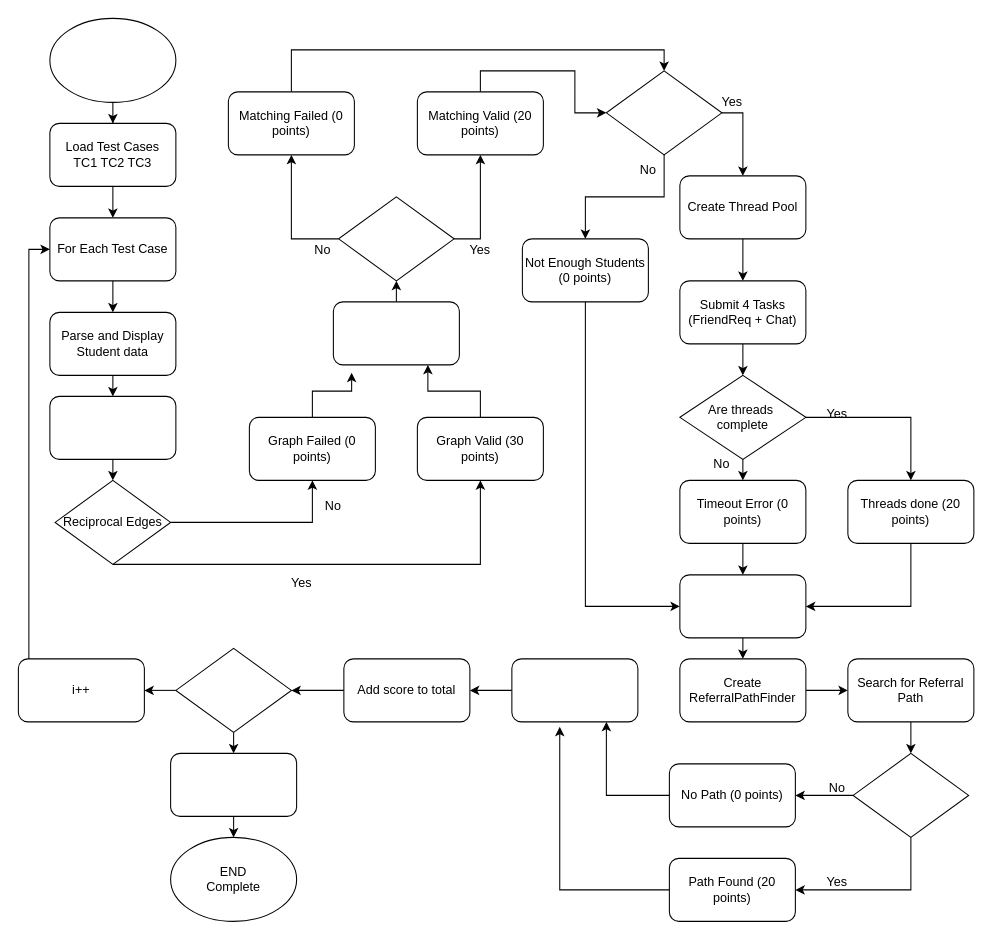
This 992x940 diagram has some shape labels left out. The shapes that lost their labels are listed below. From the top down, each one's centre as x and y in pixels, then its label:
the point at 112,59: Start Initialize
the point at 663,112: students size >=2
the point at 396,238: Roommates Valid
the point at 395,333: Run GaleShapley Matching
the point at 112,427: Build StudentGraph
the point at 742,606: Build Graph (2nd time)
the point at 233,689: i < 3
the point at 574,690: Integration Tests (20 points)
the point at 233,784: Calculate Average Score & output final res
the point at 910,794: Test Case == 2
